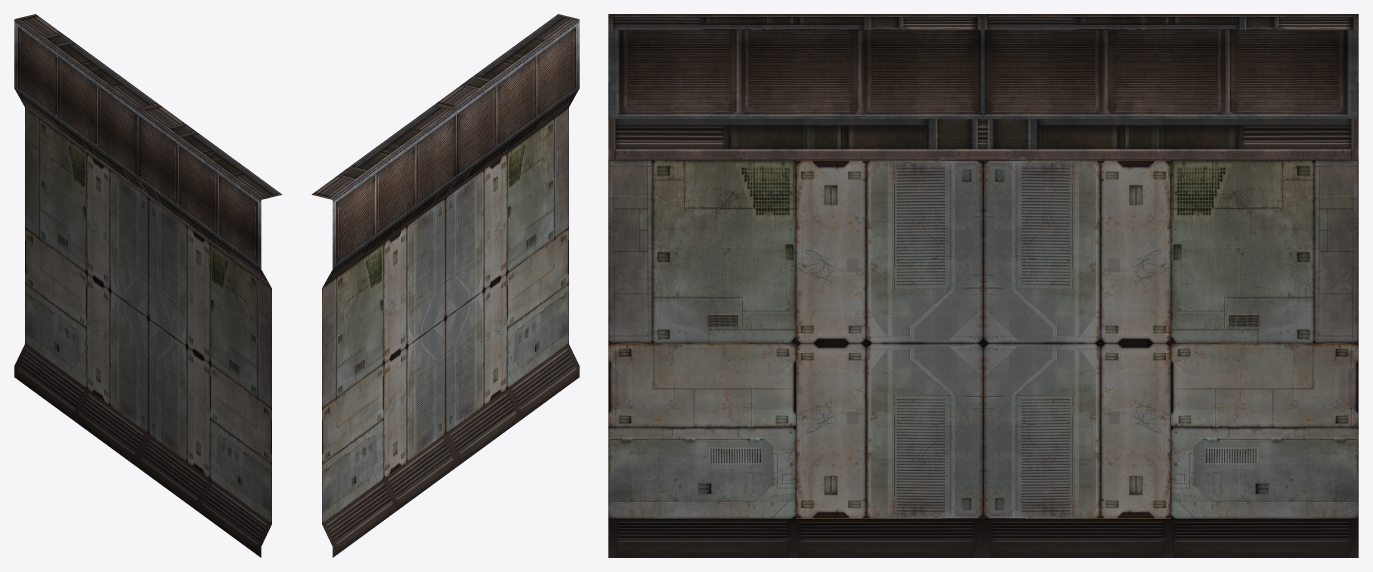
File: ARC_Wall_High_03.FBX
3 views of the same model, side by side, from view 1: azimuth 30°, elevation 25°; view 2: azimuth 150°, elevation 25°; view 3: azimuth 270°, elevation 25° (orthographic). The views are drawn at different scales.
Parts seen in each view (by area): view 1: ARC_Wall_High_03; view 2: ARC_Wall_High_03; view 3: ARC_Wall_High_03.
Boxes of the visible parts, x1=… form: ARC_Wall_High_03: x1=14, y1=14, x2=282, y2=557; ARC_Wall_High_03: x1=311, y1=14, x2=579, y2=557; ARC_Wall_High_03: x1=608, y1=14, x2=1358, y2=557.
Size of the model in its own units: 25 by 400 by 500.
1 material, 1 textured.
